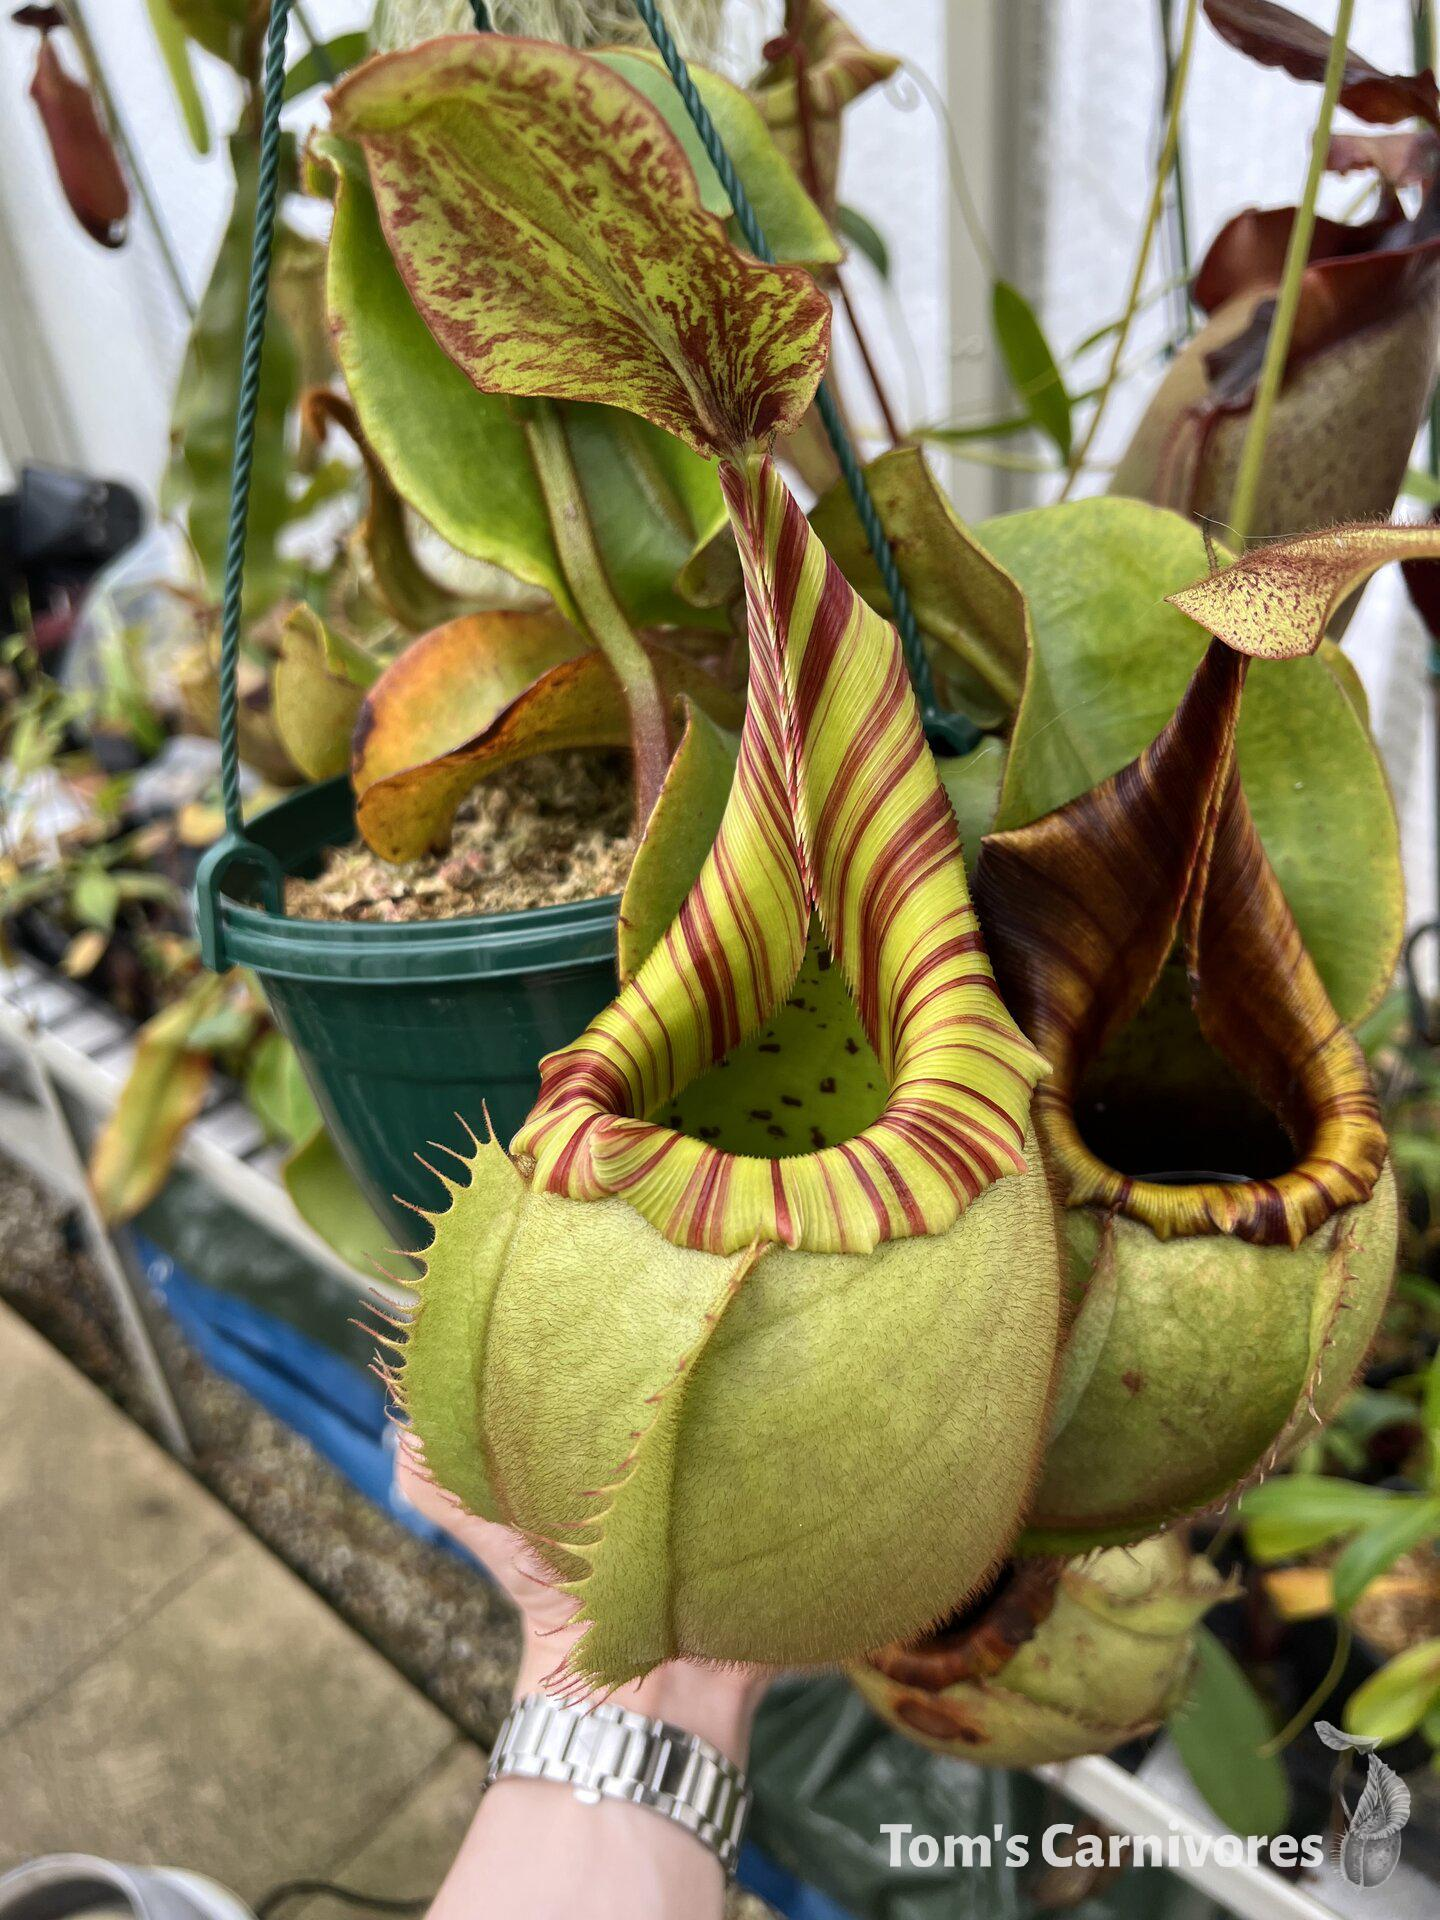veitchii: (262, 24, 1125, 1782)
